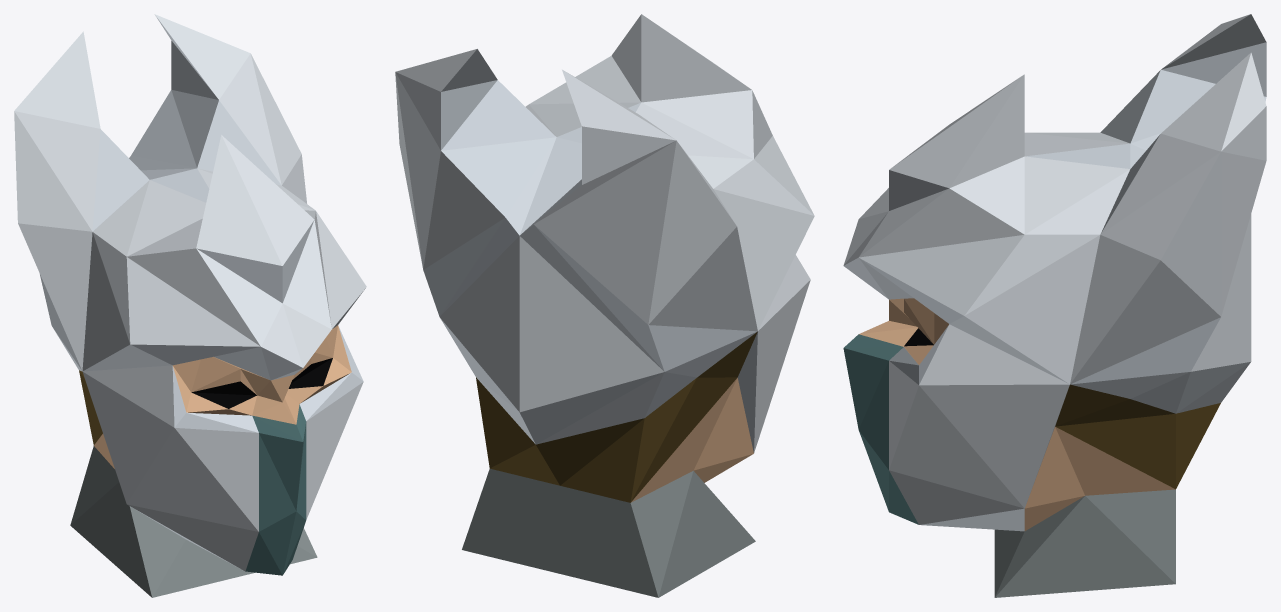
File: player_crystal_helm.glb
The picture shows the model from 3 angles, left to right: view 1: azimuth 30°, elevation 25°; view 2: azimuth 150°, elevation 25°; view 3: azimuth 270°, elevation 25°; orthographic projection. The views are drawn at different scales.
Size of the model in its own units: 24 by 37.99 by 28.01.
Materials: 1 (1 with a texture image).
